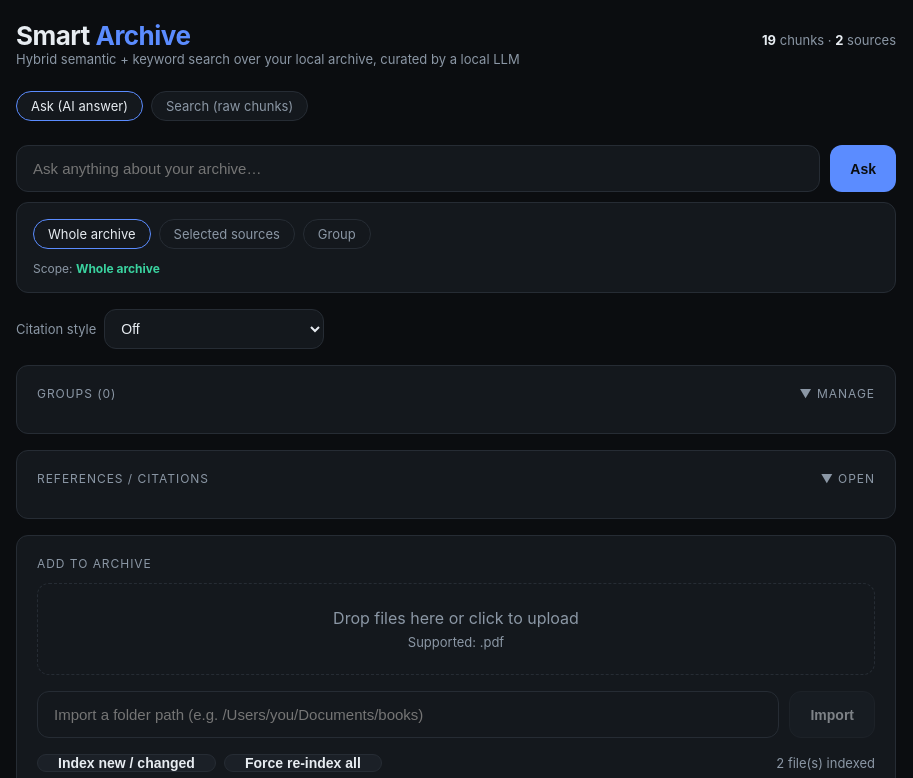
Test: Bibliography_Block titles and content (Req 6.4, 6.6, 6.7) › shows 'Works Cited' with formatted entries when MLA is selected
The image size is (913, 778).
Type "what is alpha?" into the field with placeholder "Ask anything about your archive…". click: (418, 168)
box: [16,145,820,192]
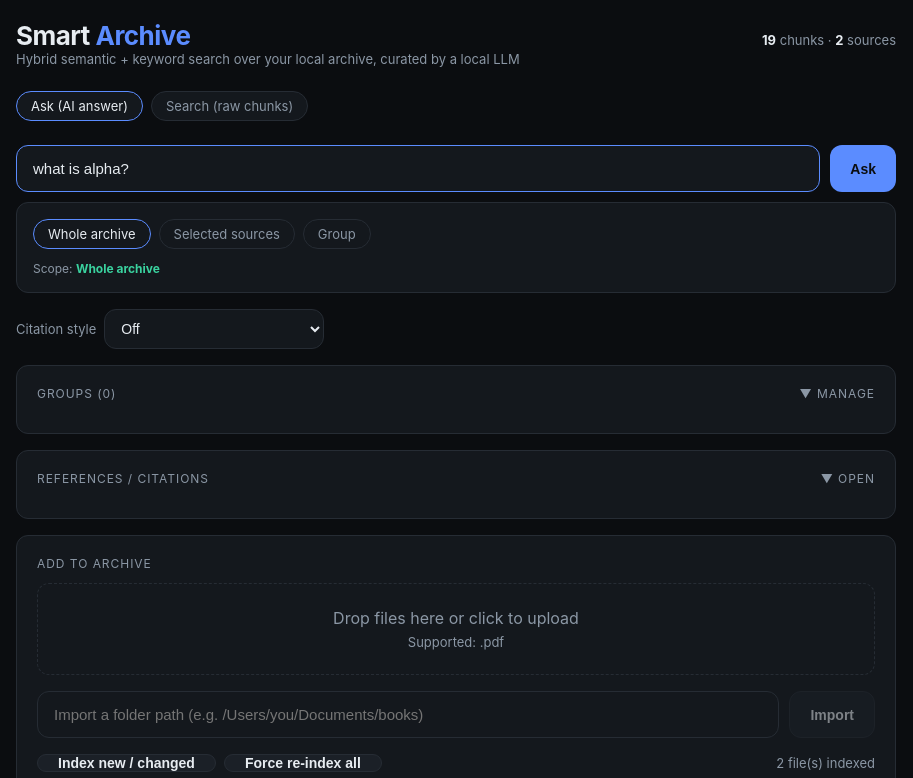
Click the button "Ask". click: (863, 168)
box: [830,145,896,192]
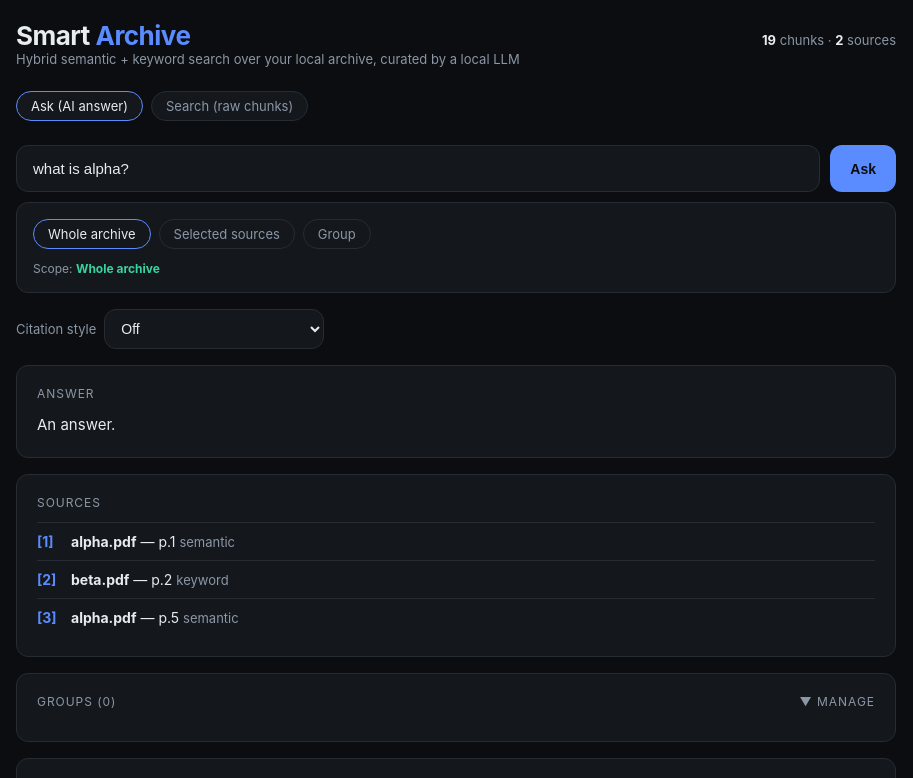
Now the text "Sources" is shown, box [37,495,101,510]
Select "MLA" in the dropdown labelled "Citation style". click: (214, 329)
box: [104,309,324,349]
(page scrolled)
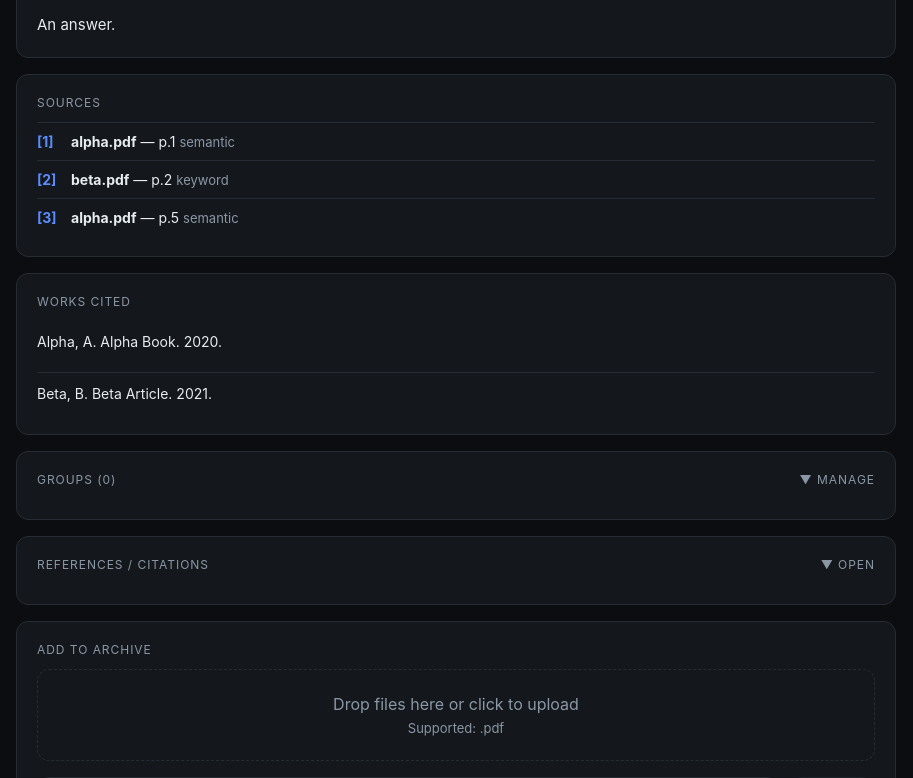
Now the text "Works Cited" is shown, box [37,294,131,309]
Now the text "Alpha, A. Alpha Book. 2020." is shown, box [37,333,222,350]
Now the text "Beta, B. Beta Article. 2021." is shown, box [37,385,212,402]
